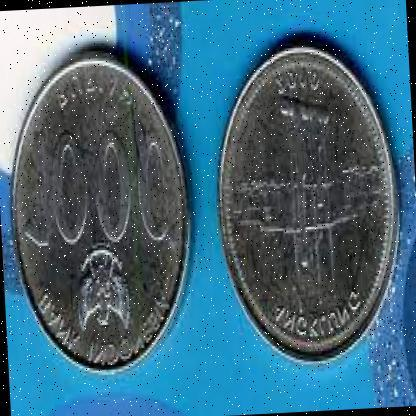coin_1000_e2010: (10, 51, 196, 383), (216, 39, 398, 364)
